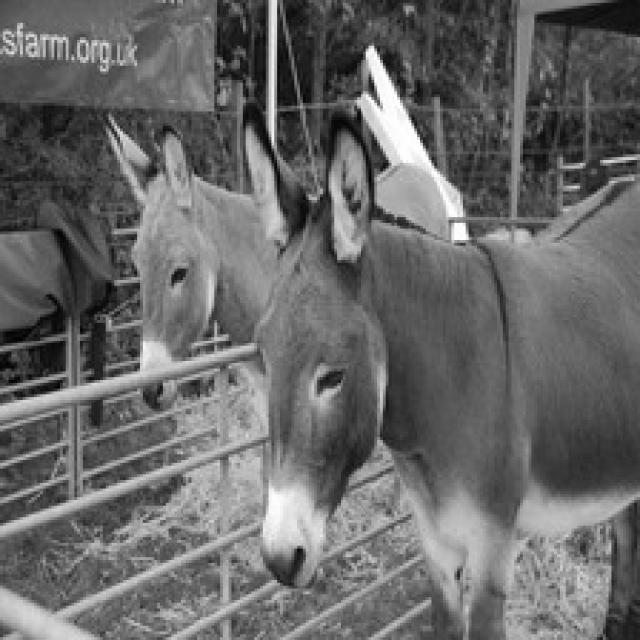Donkey: (237, 97, 637, 637), (97, 100, 452, 586)
